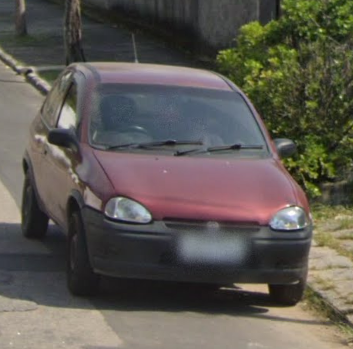car: (18, 60, 315, 304)
